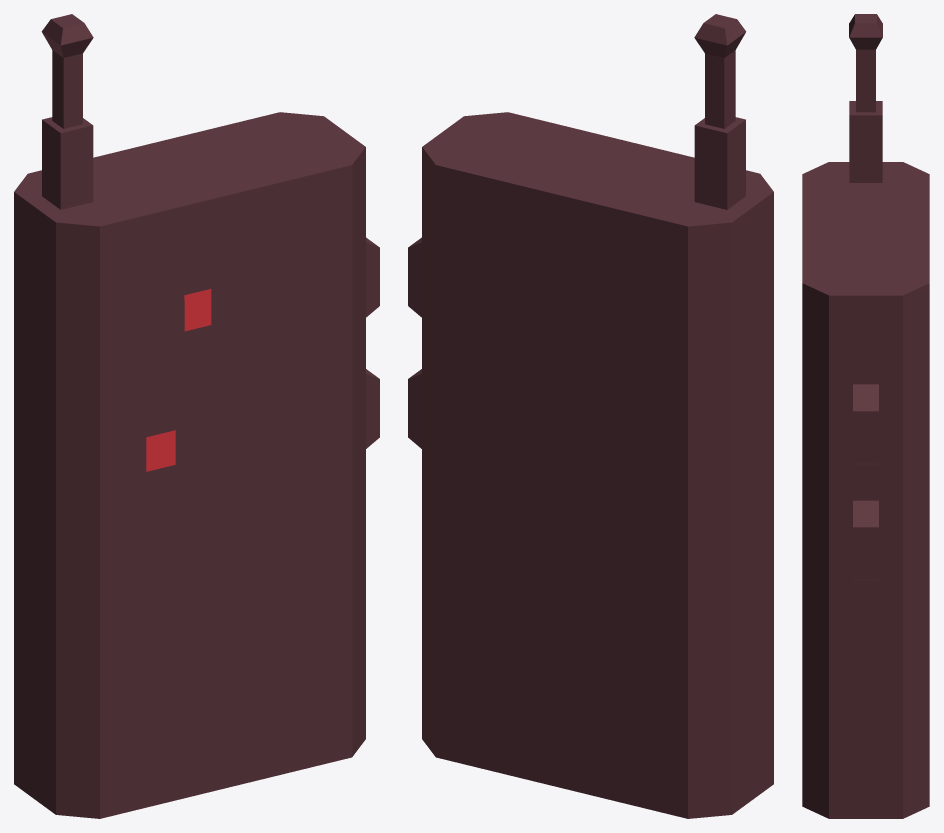
File: radio-small.fbx
3 renders of one model, left to right at view 1: azimuth 30°, elevation 25°; view 2: azimuth 150°, elevation 25°; view 3: azimuth 270°, elevation 25°, orthographic. The views are drawn at different scales.
Parts seen in each view (by area): view 1: radio-small; view 2: radio-small; view 3: radio-small.
Boxes of the visible parts, x1,y1,x2,y2 form: radio-small: (14, 14, 379, 818); radio-small: (408, 14, 773, 818); radio-small: (802, 14, 929, 818).
Bounding box in the file's own units: 0.0875 × 0.1907 × 0.0324.
